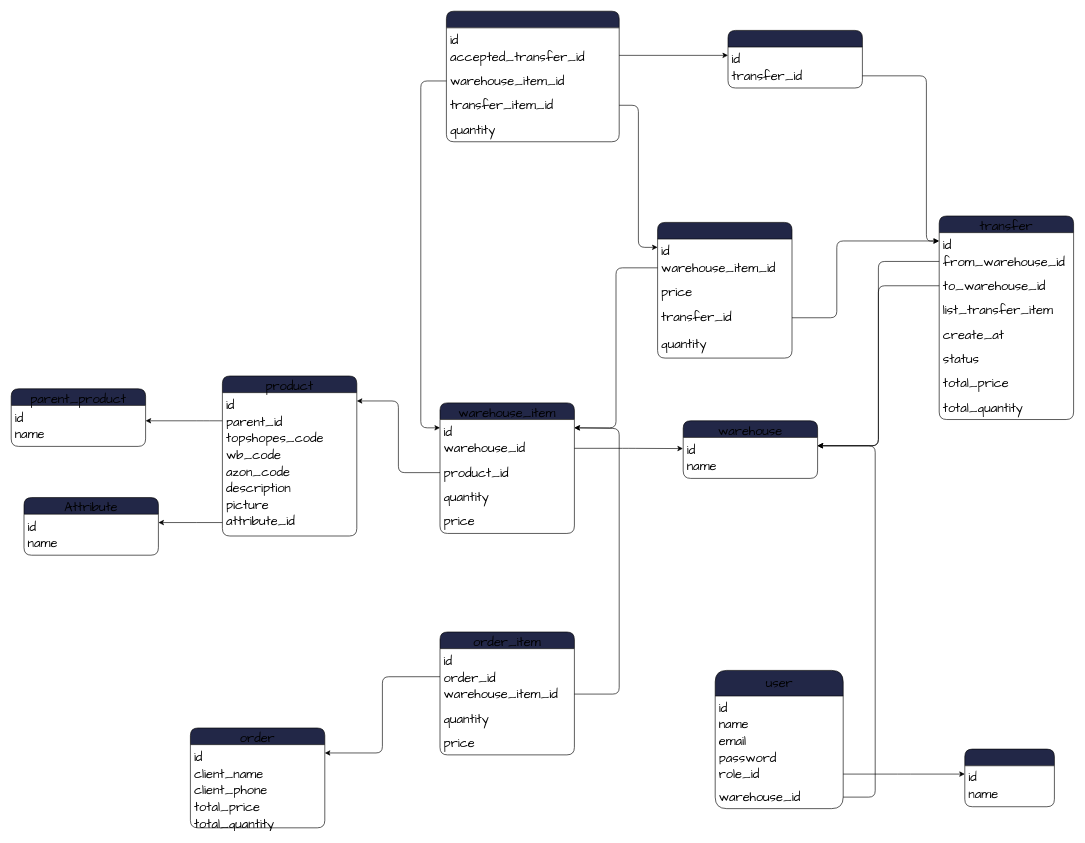
The diagram is 1085 pixels wide and 843 high, and some of its shapes have lost their labels. The box of each missing label's shape, as (x1, y1, x2, y2) in pixels:
accepted_transfer: (727, 30, 862, 88)
accepted_transfer_item: (446, 11, 619, 142)
role: (964, 748, 1054, 807)
transfer_item: (657, 222, 792, 358)
